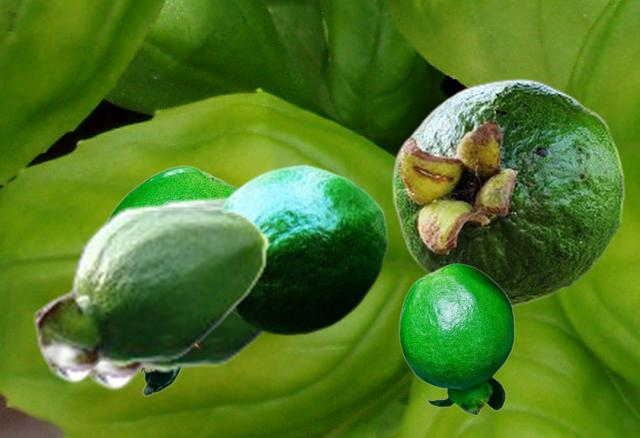guava: (391, 78, 625, 308), (33, 202, 269, 383), (195, 163, 388, 349), (87, 195, 269, 390), (108, 165, 237, 395), (398, 263, 514, 414)
